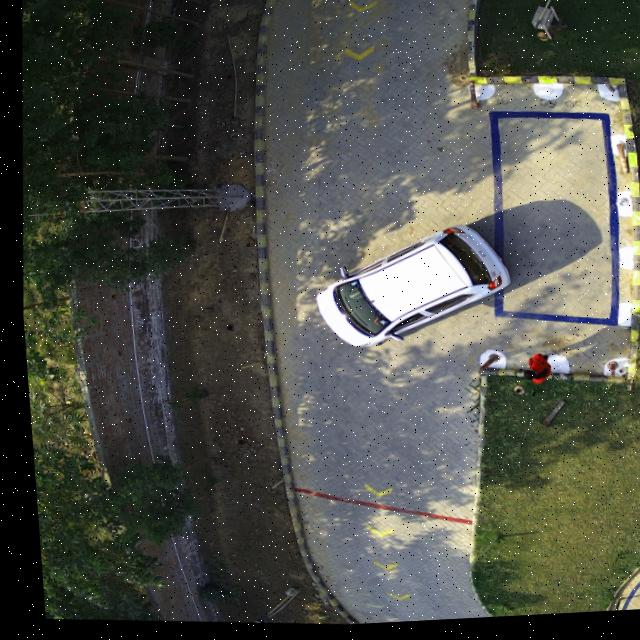car: (312, 228, 504, 349)
